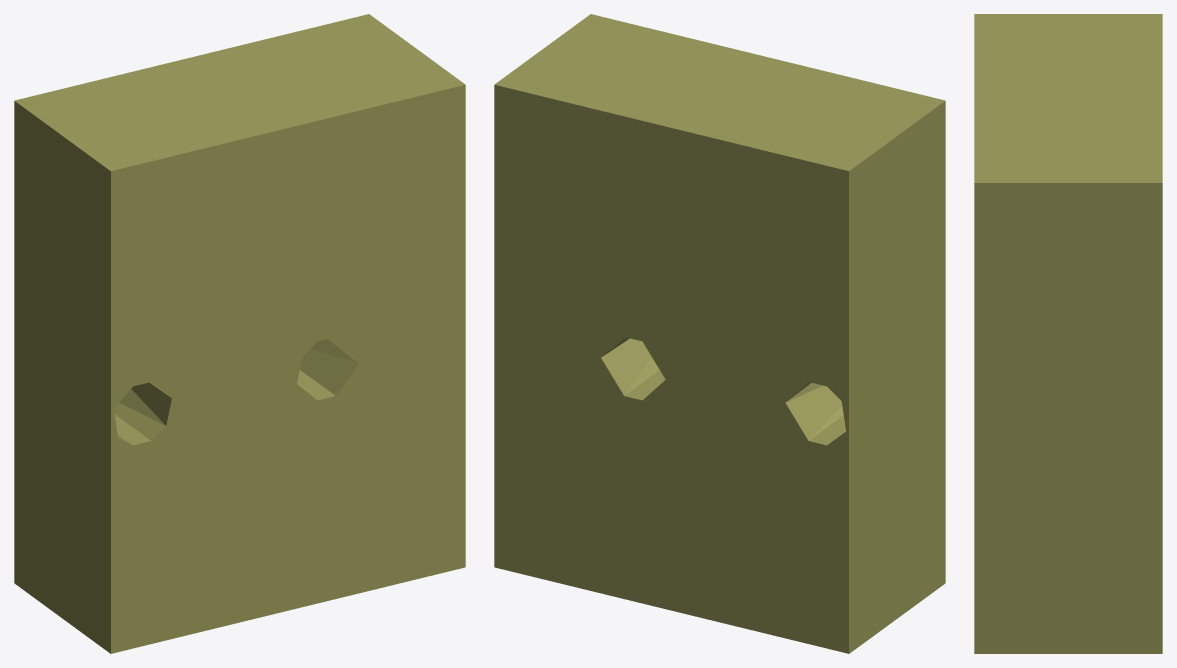
Rendered from OBJ_SW-SMD_EVQPUD02K.obj.
3 views of the same model, side by side, from view 1: azimuth 30°, elevation 25°; view 2: azimuth 150°, elevation 25°; view 3: azimuth 270°, elevation 25° (orthographic). The views are drawn at different scales.
Bounding box in the file's own units: 21.22 × 27.57 × 10.
